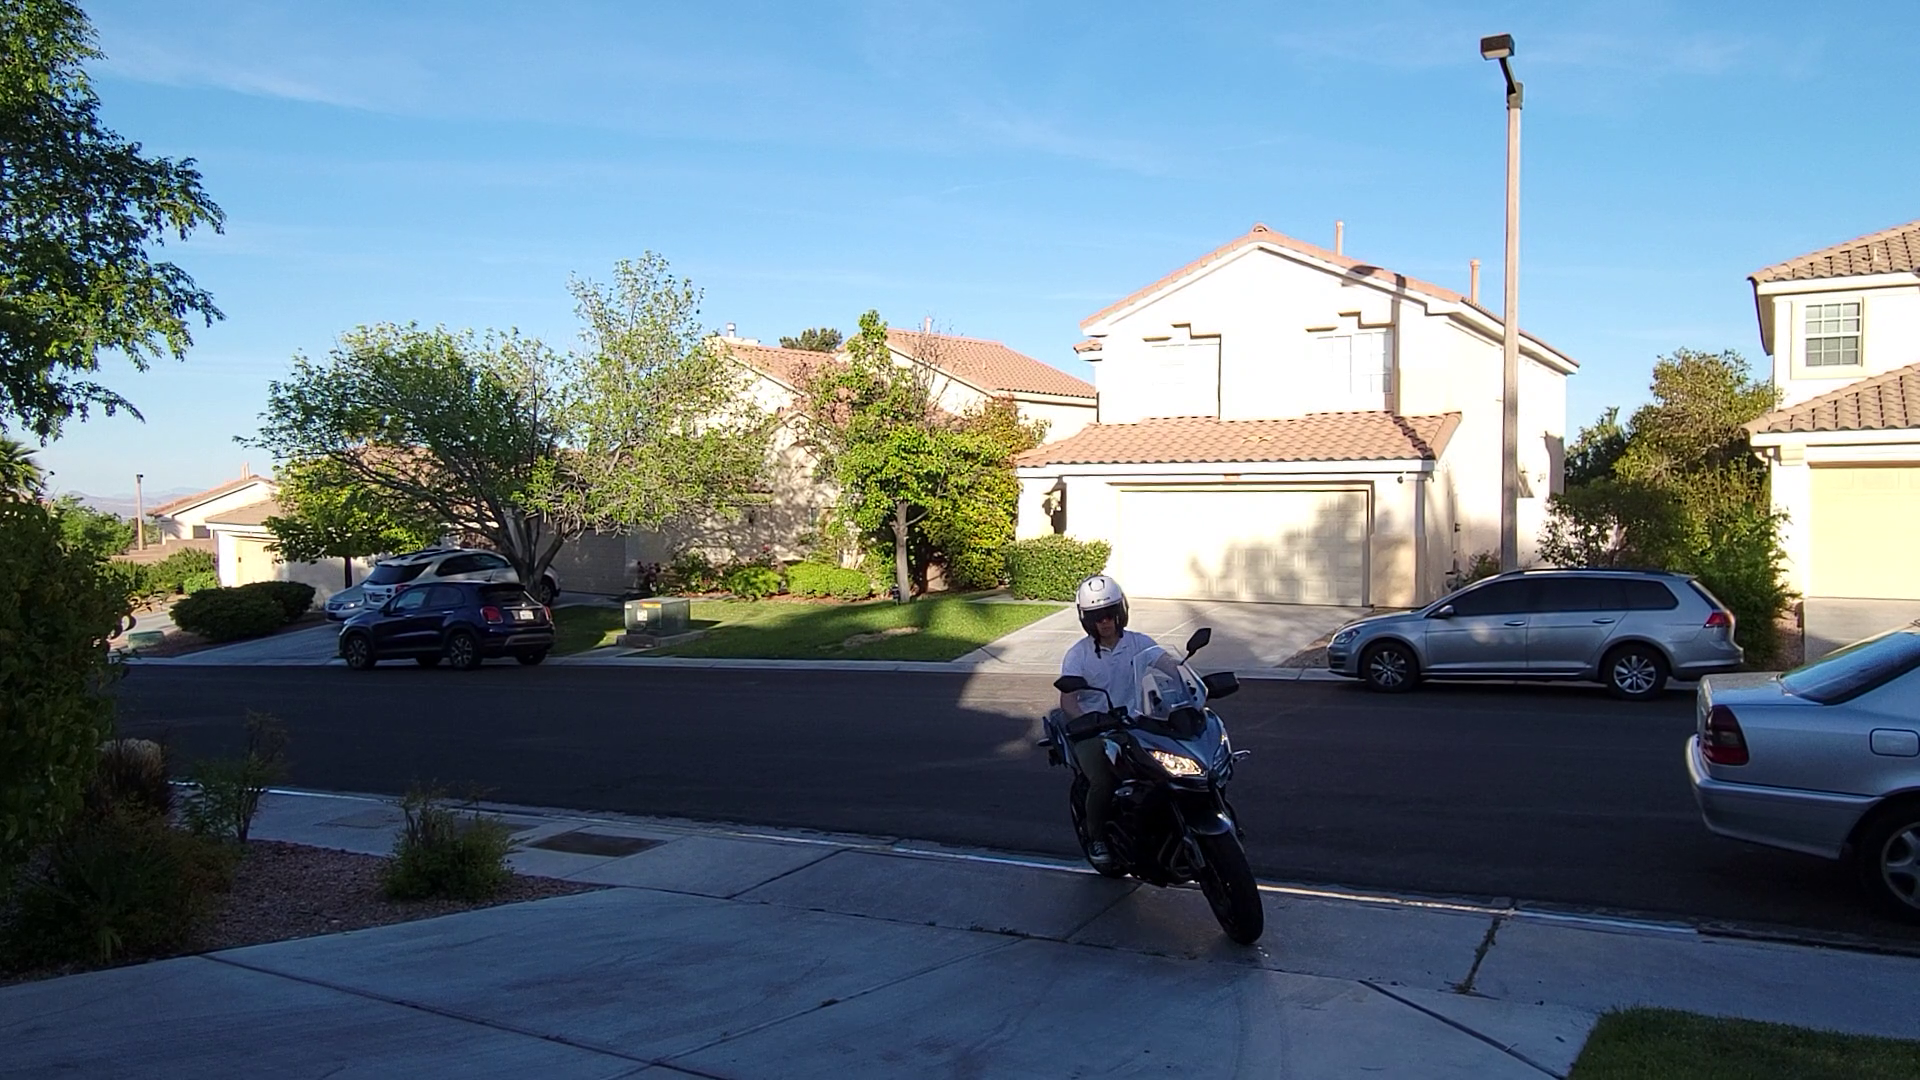my bike: (1019, 570, 1269, 948)
